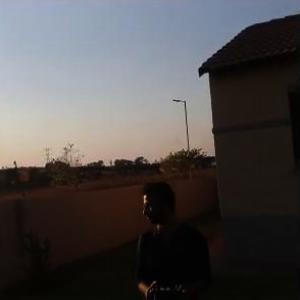follow: (124, 174, 212, 299)
